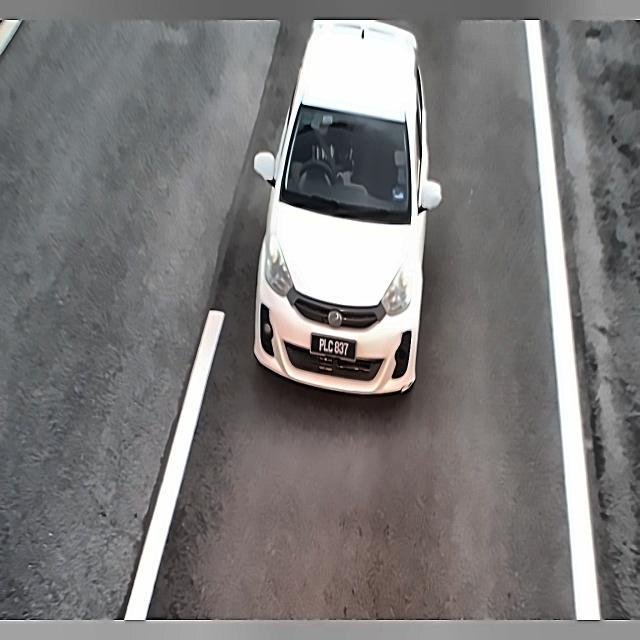car: (305, 330, 367, 371)
